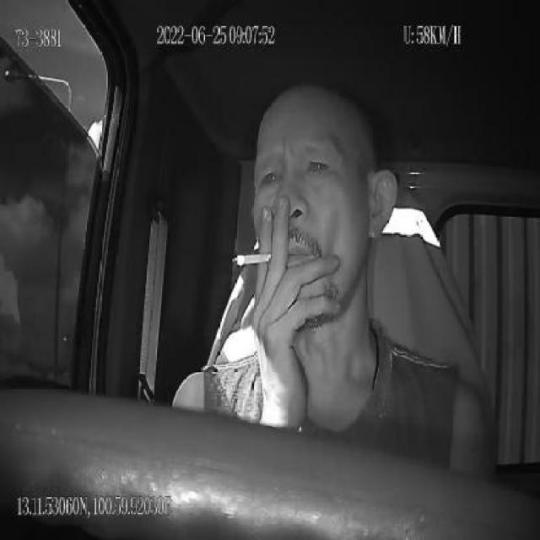smoking: (233, 252, 272, 268)
